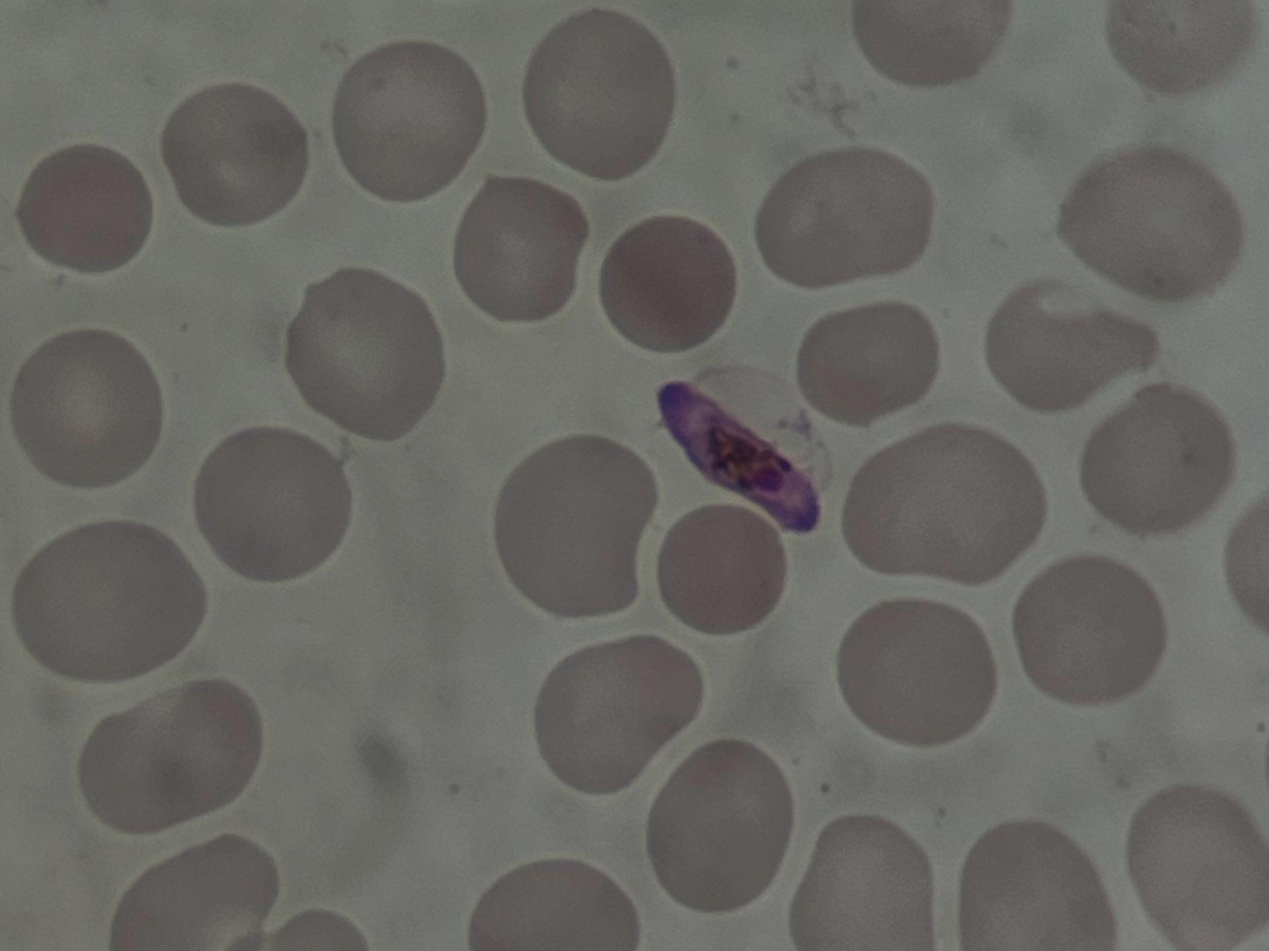Infected: (654, 361, 837, 538)
Uninfected: (843, 418, 1046, 586), (12, 517, 207, 683), (494, 432, 658, 618), (1051, 144, 1245, 301), (79, 674, 264, 833), (532, 635, 704, 796), (283, 268, 443, 441), (753, 144, 939, 291), (519, 11, 679, 181), (644, 736, 794, 914), (192, 422, 355, 582), (330, 38, 488, 199), (10, 329, 166, 490), (985, 276, 1161, 415), (836, 598, 997, 748), (1129, 783, 1269, 951), (1015, 554, 1167, 707), (1081, 382, 1235, 532), (160, 80, 310, 227), (785, 812, 937, 951), (451, 172, 588, 324), (957, 817, 1110, 951), (108, 832, 280, 951), (598, 213, 740, 355), (17, 142, 157, 275), (791, 303, 939, 428), (461, 853, 644, 951), (653, 499, 785, 633), (1105, 0, 1254, 96), (849, 0, 1008, 86)
